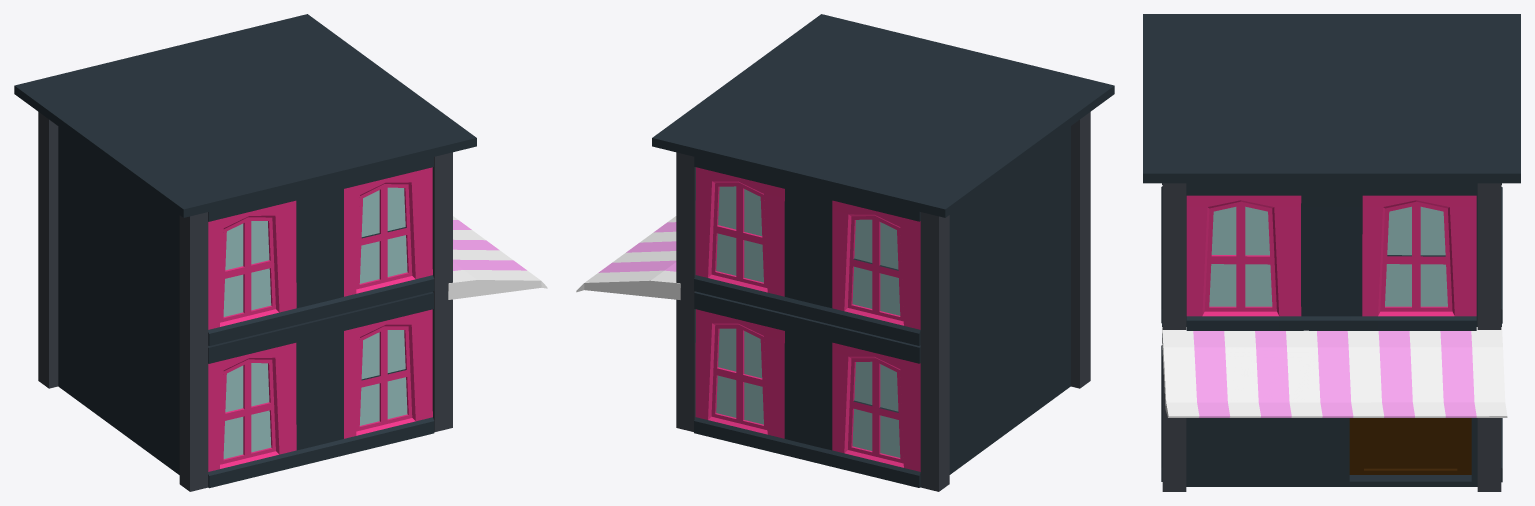
The model's file is buildings_2.fbx_2Story_-_HotPink.fbx.
The picture shows the model from 3 angles, left to right: view 1: azimuth 30°, elevation 25°; view 2: azimuth 150°, elevation 25°; view 3: azimuth 270°, elevation 25°; orthographic projection. The views are drawn at different scales.
Visible parts, largest first — view 1: Cube.008; view 2: Cube.008; view 3: Cube.008.
Part boxes in pixels (x1,y1,x2,y2): Cube.008: (14,14,547,491); Cube.008: (576,14,1114,491); Cube.008: (1143,14,1520,491).
Bounding box in the file's own units: 1658 × 1237 × 1296.
